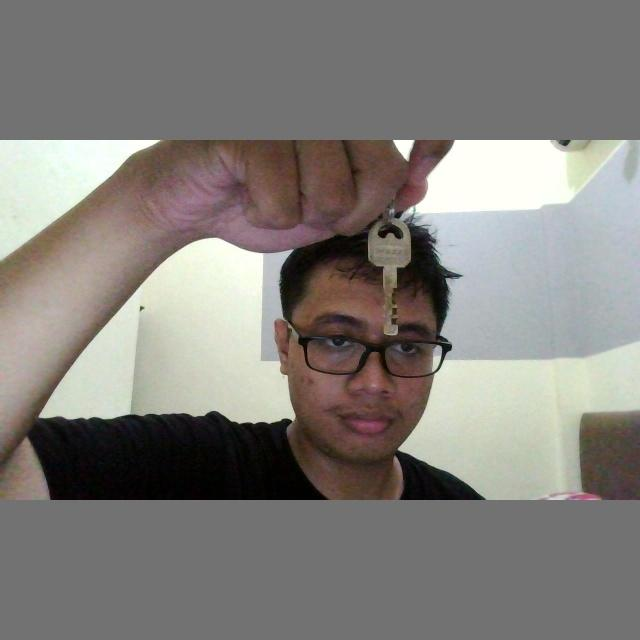Keys: (366, 208, 414, 340)
